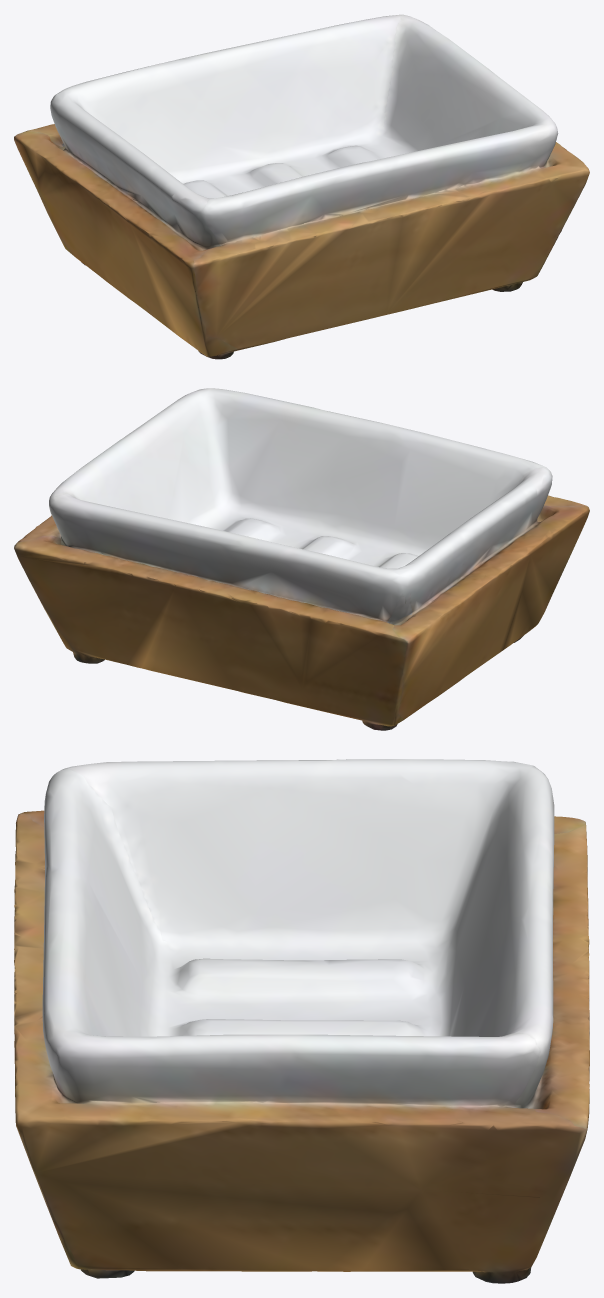
Rendered from Threshold_Bamboo_Ceramic_Soap_Dish-high.glb.
3 views of the same model, one above another, from view 1: azimuth 30°, elevation 25°; view 2: azimuth 150°, elevation 25°; view 3: azimuth 270°, elevation 25° (orthographic). The views are drawn at different scales.
Visible parts, largest first — view 1: Threshold_Bamboo_Ceramic_Soap_Dish; view 2: Threshold_Bamboo_Ceramic_Soap_Dish; view 3: Threshold_Bamboo_Ceramic_Soap_Dish.
Boxes of the visible parts, x1,y1,x2,y2 form: Threshold_Bamboo_Ceramic_Soap_Dish: [14, 14, 589, 359]; Threshold_Bamboo_Ceramic_Soap_Dish: [14, 388, 589, 730]; Threshold_Bamboo_Ceramic_Soap_Dish: [14, 759, 589, 1283].
Bounding box in the file's own units: 0.1247 × 0.0506 × 0.0981.
1 material, 1 textured.
